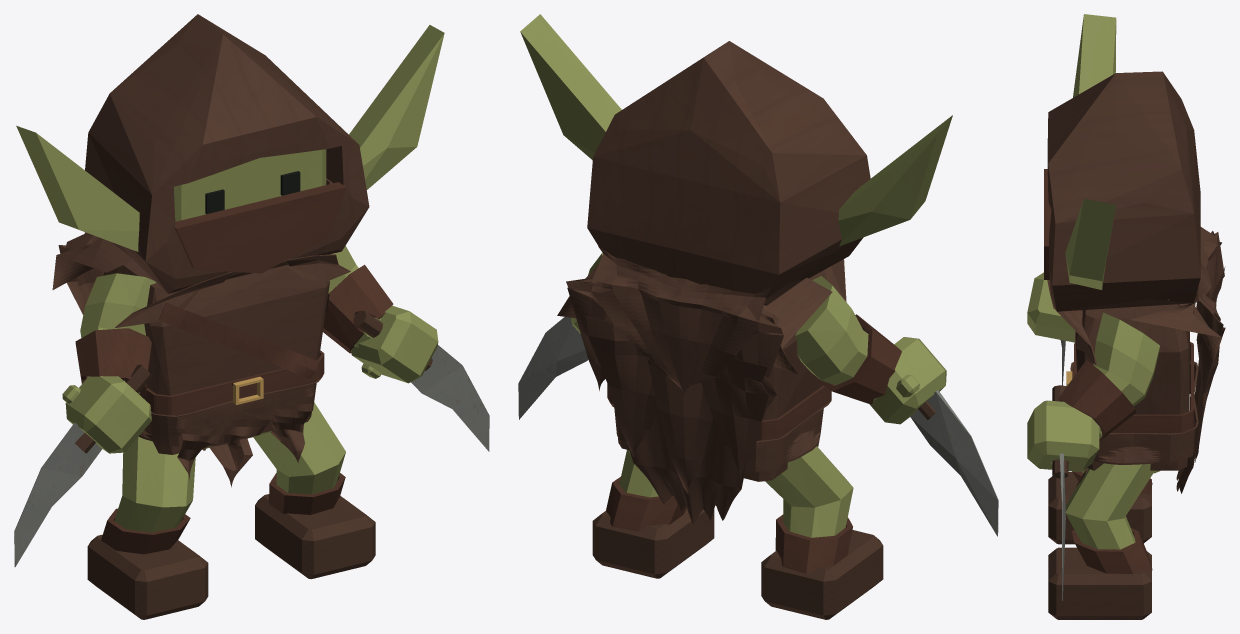
File: host_09.glb
3 renders of one model, left to right at view 1: azimuth 30°, elevation 25°; view 2: azimuth 150°, elevation 25°; view 3: azimuth 270°, elevation 25°, orthographic. The views are drawn at different scales.
Visible parts, largest first — view 1: Pointed brown hood - hollow outer cloth, Source connected torso mass, Source pointed mouth mask, RIGHT source planted boot, LEFT source planted boot, Source exposed tall triangular ear LEFT, Source exposed tall triangular ear RIGHT, RIGHT source short joined leg, One continuous source skull, RIGHT real compact source grasp source compact planar grasp, LEFT real compact source grasp source compact planar grasp, LEFT source short joined leg (+19 smaller); view 2: Pointed brown hood - hollow outer cloth, V4 source irregular rooted descending brown rear folds 0, Source exposed tall triangular ear LEFT, RIGHT source planted boot, Source exposed tall triangular ear RIGHT, Source hanging ragged rear cape, LEFT source planted boot, RIGHT source short joined leg, V4 source irregular rooted descending brown rear folds 3, RIGHT full actual connected arm, V4 source irregular rooted descending brown rear folds 5, V4 source irregular rooted descending brown rear folds 4 (+14 smaller); view 3: Pointed brown hood - hollow outer cloth, LEFT source planted boot, Source connected torso mass, LEFT source short joined leg, LEFT real compact source grasp source compact planar grasp, LEFT full actual connected arm, Source exposed tall triangular ear LEFT, Source fitted ragged hem, LEFT fitted source hollow leather bracer, Source exposed tall triangular ear RIGHT, RIGHT source planted boot, LEFT source planted boot angular high brown cuff (+11 smaller).
Boxes of the visible parts, x1,y1,x2,y2 form: Pointed brown hood - hollow outer cloth: (85,14,369,293); Source connected torso mass: (103,260,329,454); Source pointed mouth mask: (174,182,346,273); RIGHT source planted boot: (87,534,208,619); LEFT source planted boot: (255,494,375,579); Source exposed tall triangular ear LEFT: (349,25,444,189); Source exposed tall triangular ear RIGHT: (16,125,139,251); RIGHT source short joined leg: (114,436,195,532); One continuous source skull: (174,149,326,221); RIGHT real compact source grasp source compact planar grasp: (62,376,151,453); LEFT real compact source grasp source compact planar grasp: (351,305,438,383); LEFT source short joined leg: (253,402,345,494); Pointed brown hood - hollow outer cloth: (587,41,870,299); V4 source irregular rooted descending brown rear folds 0: (591,246,770,395); Source exposed tall triangular ear LEFT: (520,14,621,160); RIGHT source planted boot: (761,530,883,619); Source exposed tall triangular ear RIGHT: (838,115,952,246); Source hanging ragged rear cape: (566,277,780,524); LEFT source planted boot: (592,508,714,578); RIGHT source short joined leg: (765,446,853,537); V4 source irregular rooted descending brown rear folds 3: (586,316,657,458); RIGHT full actual connected arm: (795,276,868,385); V4 source irregular rooted descending brown rear folds 5: (701,358,768,479); V4 source irregular rooted descending brown rear folds 4: (647,359,712,494); Pointed brown hood - hollow outer cloth: (1047,71,1200,311); LEFT source planted boot: (1048,547,1151,619); Source connected torso mass: (1076,299,1190,470); LEFT source short joined leg: (1065,463,1154,549); LEFT real compact source grasp source compact planar grasp: (1027,400,1102,471); LEFT full actual connected arm: (1093,312,1159,430); Source exposed tall triangular ear LEFT: (1065,199,1116,289); Source fitted ragged hem: (1070,361,1198,464); LEFT fitted source hollow leather bracer: (1057,360,1135,440); Source exposed tall triangular ear RIGHT: (1073,14,1116,97); RIGHT source planted boot: (1048,472,1151,544); LEFT source planted boot angular high brown cuff: (1072,528,1152,573).
Bounding box in the file's own units: 1.02 × 1.1 × 0.3976.
7 materials, 6 textured.
